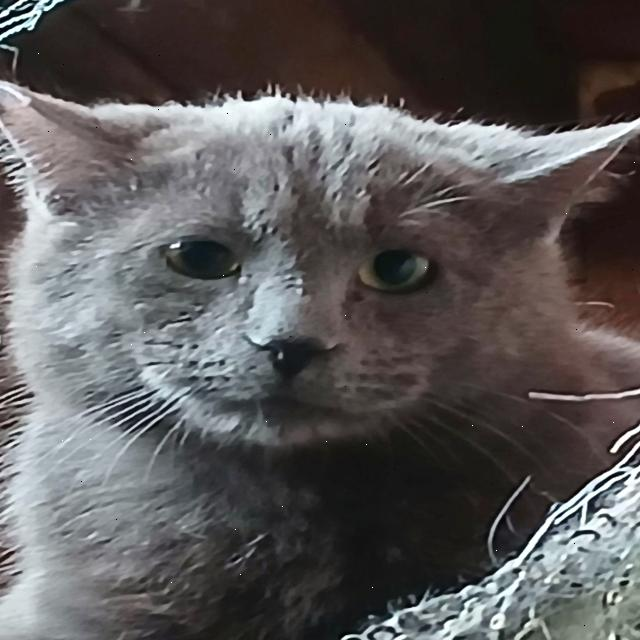russian_blue_cat: (0, 82, 640, 466)
